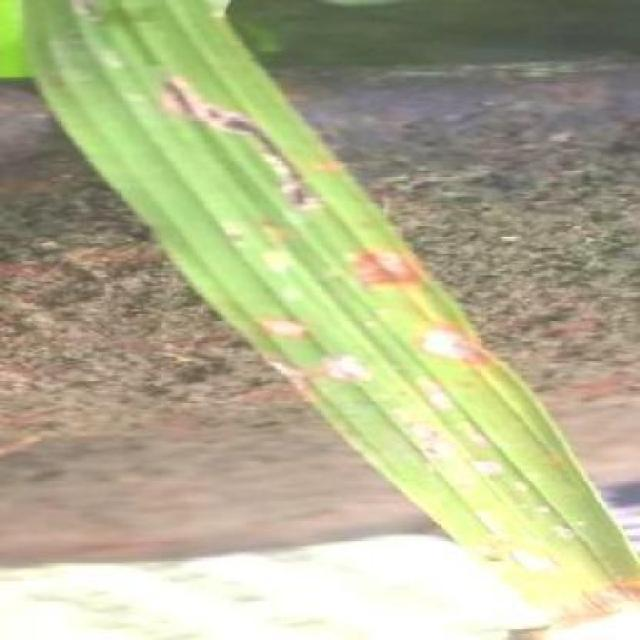Bacterial_Leaf_Blight: (156, 53, 327, 207), (500, 587, 631, 640), (290, 333, 387, 395), (405, 307, 493, 375), (352, 232, 419, 300), (261, 296, 321, 362), (412, 363, 466, 425)
